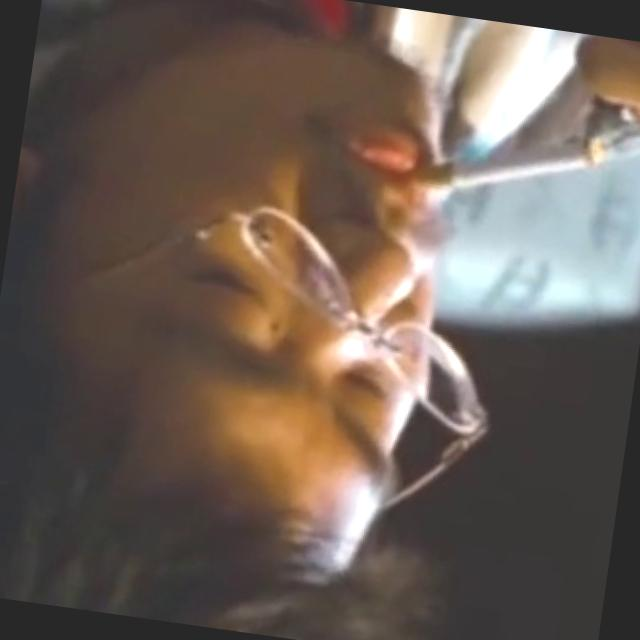cigarette: (396, 102, 612, 228)
